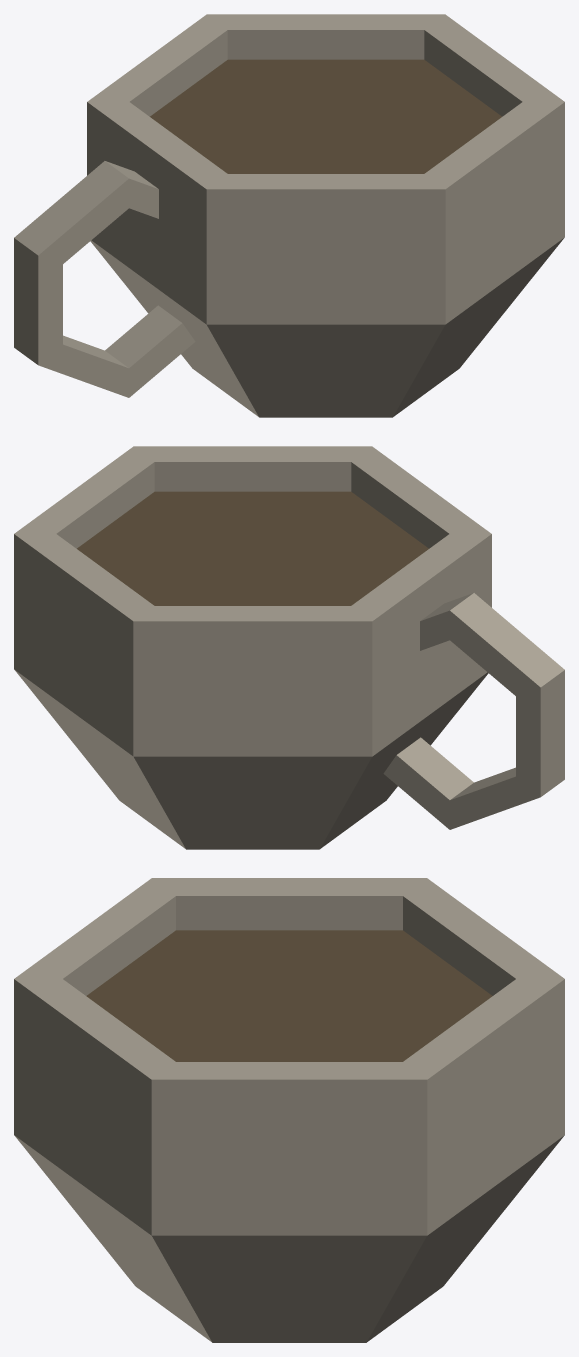
File: SM_Prop_Sign_Coffee_01.fbx
3 views of the same model, one above another, from view 1: azimuth 30°, elevation 25°; view 2: azimuth 150°, elevation 25°; view 3: azimuth 270°, elevation 25° (orthographic). The views are drawn at different scales.
Parts seen in each view (by area): view 1: SM_Prop_Sign_Coffee_01; view 2: SM_Prop_Sign_Coffee_01; view 3: SM_Prop_Sign_Coffee_01.
Boxes of the visible parts, bbox=[...] form: SM_Prop_Sign_Coffee_01: bbox=[14, 14, 564, 417]; SM_Prop_Sign_Coffee_01: bbox=[14, 446, 564, 849]; SM_Prop_Sign_Coffee_01: bbox=[14, 878, 564, 1342].
Bounding box in the file's own units: 65.43 × 34.8 × 56.52.
